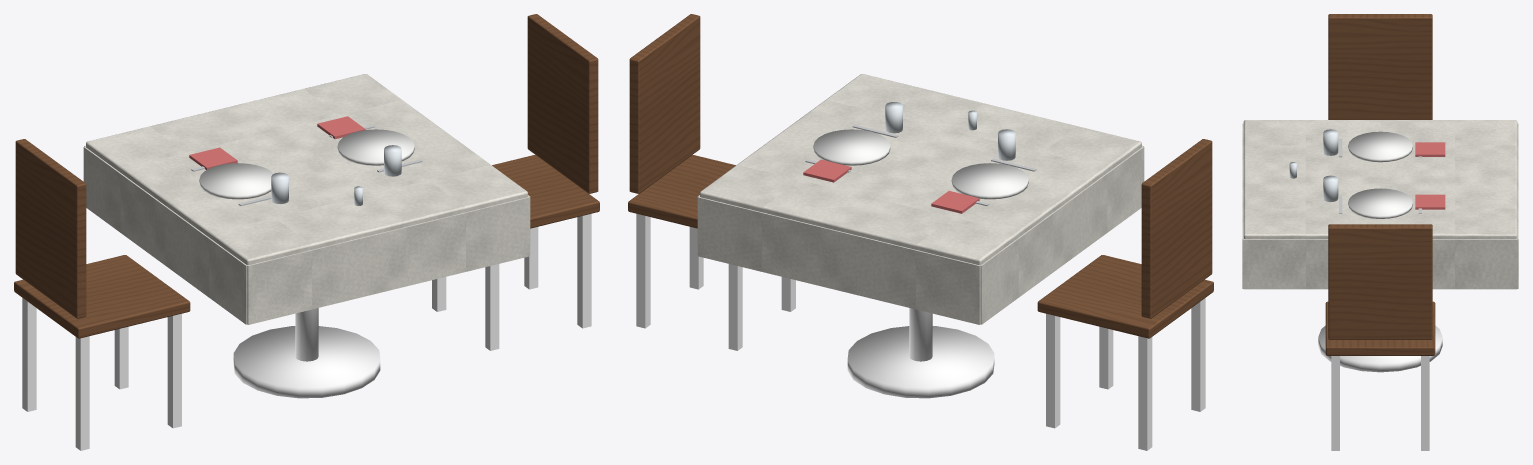
Rendered from restoran.mesa.fbx.
3 views of the same model, side by side, from view 1: azimuth 30°, elevation 25°; view 2: azimuth 150°, elevation 25°; view 3: azimuth 270°, elevation 25° (orthographic). The views are drawn at different scales.
Parts seen in each view (by area): view 1: Mantel, Caida del mantel.003, Respaldo, Respaldo.001, Caida del mantel.001, Base de la mesa, Asiento.001, Asiento, Plato.001, Plato, Pata.007, Pata.001 (+8 smaller); view 2: Mantel, Caida del mantel.002, Respaldo, Respaldo.001, Caida del mantel.001, Base de la mesa, Asiento.001, Asiento, Plato.001, Plato, Pata.006, Pata (+8 smaller); view 3: Mantel, Respaldo, Respaldo.001, Caida del mantel, Asiento, Plato.001, Base de la mesa, Plato, Pata, Pata.001, Servilleta, Servilleta.001 (+4 smaller).
Boxes of the visible parts, x1,y1,x2,y2 form: Mantel: [86, 74, 527, 264]; Caida del mantel.003: [247, 196, 529, 324]; Respaldo: [527, 14, 598, 193]; Respaldo.001: [15, 139, 86, 318]; Caida del mantel.001: [83, 146, 247, 324]; Base de la mesa: [233, 326, 380, 398]; Asiento.001: [14, 255, 190, 338]; Asiento: [492, 155, 599, 228]; Plato.001: [199, 163, 273, 199]; Plato: [337, 129, 414, 165]; Pata.007: [75, 336, 89, 450]; Pata.001: [577, 213, 591, 328]; Mantel: [700, 74, 1141, 264]; Caida del mantel.002: [698, 196, 980, 324]; Respaldo: [629, 14, 700, 193]; Respaldo.001: [1141, 139, 1212, 318]; Caida del mantel.001: [980, 146, 1144, 324]; Base de la mesa: [847, 326, 994, 398]; Asiento.001: [1037, 255, 1213, 338]; Asiento: [628, 155, 735, 228]; Plato.001: [951, 163, 1028, 199]; Plato: [813, 129, 890, 165]; Pata.006: [1138, 336, 1152, 450]; Pata: [636, 213, 650, 328]; Mantel: [1243, 120, 1517, 239]; Respaldo: [1328, 224, 1432, 339]; Respaldo.001: [1328, 14, 1432, 119]; Caida del mantel: [1243, 239, 1517, 289]; Asiento: [1325, 301, 1435, 355]; Plato.001: [1348, 131, 1412, 162]; Base de la mesa: [1318, 325, 1442, 372]; Plato: [1348, 188, 1412, 218]; Pata: [1421, 356, 1429, 450]; Pata.001: [1331, 356, 1339, 450]; Servilleta: [1415, 194, 1445, 209]; Servilleta.001: [1415, 142, 1445, 156].
Bounding box in the file's own units: 2.04 × 1 × 1.11.
Materials: 14 (2 with a texture image).
